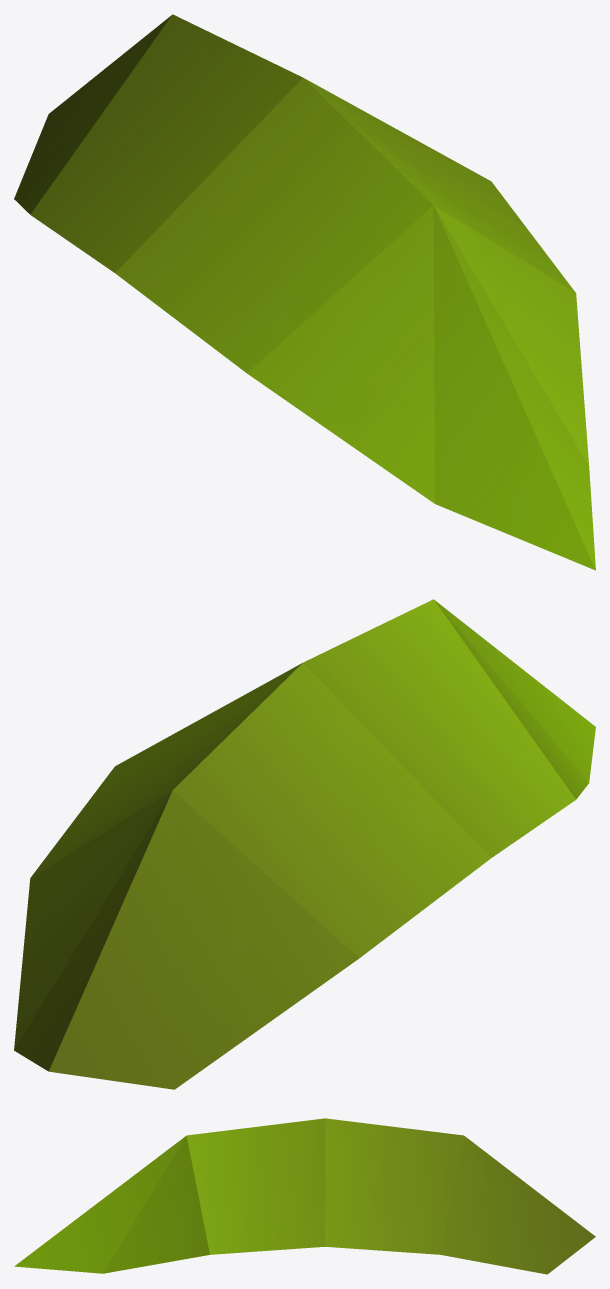
File: Palm_Leaf_A.fbx
3 renders of one model, top to bottom at view 1: azimuth 30°, elevation 25°; view 2: azimuth 150°, elevation 25°; view 3: azimuth 270°, elevation 25°, orthographic. The views are drawn at different scales.
Parts seen in each view (by area): view 1: Palm_Leaf_A; view 2: Palm_Leaf_A; view 3: Palm_Leaf_A.
Boxes of the visible parts, x1,y1,x2,y2 form: Palm_Leaf_A: (14,14,595,570); Palm_Leaf_A: (14,599,595,1089); Palm_Leaf_A: (14,1118,595,1274).
Size of the model in its own units: 61.23 by 154 by 43.33.
Materials: 1 (1 with a texture image).
